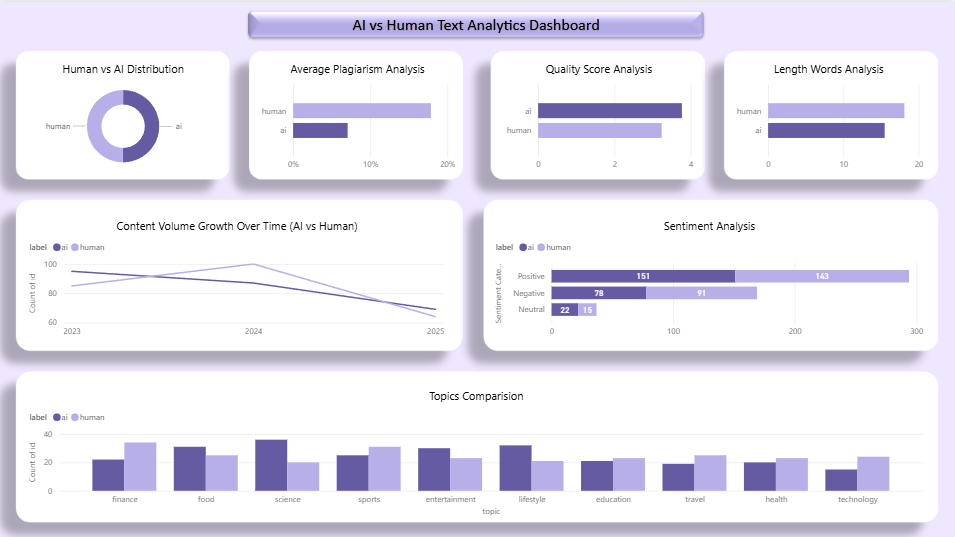

Layout of this report page (visuals, bound fields, positions):
{"tool":"powerbi","page":{"name":"Page 1","canvas":[1280,720],"ordinal":0},"visuals":[{"type":"donutChart","title":"Human vs AI Distribution ","fields":{"Category":["ai_vs_human_dataset_medium.label"],"Y":["CountNonNull(ai_vs_human_dataset_medium.id)"]},"box":[38.3,78.3,260,155],"z":0},{"type":"clusteredBarChart","title":"Quality Score Analysis","fields":{"Category":["ai_vs_human_dataset_medium.label"],"Y":["Avg(ai_vs_human_dataset_medium.quality_score)"]},"box":[671.7,78.3,261.7,155],"z":3},{"type":"barChart","title":"Average Plagiarism Analysis","fields":{"Category":["ai_vs_human_dataset_medium.label"],"Y":["Avg(ai_vs_human_dataset_medium.plagiarism_score)"]},"box":[345,78.3,271.7,155],"z":5},{"type":"clusteredColumnChart","title":"Topics Comparision","fields":{"Category":["ai_vs_human_dataset_medium.topic"],"Series":["ai_vs_human_dataset_medium.label"],"Y":["CountNonNull(ai_vs_human_dataset_medium.id)"]},"box":[38.3,515,1201.7,175],"z":6},{"type":"clusteredBarChart","title":"Length Words Analysis","fields":{"Category":["ai_vs_human_dataset_medium.label"],"Y":["Avg(ai_vs_human_dataset_medium.length_words)"]},"box":[978.3,78.3,261.7,155],"z":7},{"type":"barChart","title":"Sentiment Analysis","fields":{"Series":["ai_vs_human_dataset_medium.label"],"Y":["CountNonNull(ai_vs_human_dataset_medium.id)"],"Category":["ai_vs_human_dataset_medium.Sentiment Category"]},"box":[660,288.3,580,166.7],"z":8},{"type":"lineChart","title":"Content Volume Growth Over Time (AI vs Human)","fields":{"Y":["CountNonNull(ai_vs_human_dataset_medium.id)"],"Series":["ai_vs_human_dataset_medium.label"],"Category":["ai_vs_human_dataset_medium.timestamp.Variation.Date Hierarchy.Year"]},"box":[38.3,288.3,563.3,166.7],"z":9}]}

Visuals, with their boxes in screenshot pixels (x1, y1, x2, y2), scaled from the page's 1280x720 canvas onto the 955x537 screenshot:
"Human vs AI Distribution " donutChart: detection(29, 58, 223, 174)
"Quality Score Analysis" clusteredBarChart: detection(501, 58, 696, 174)
"Average Plagiarism Analysis" barChart: detection(257, 58, 460, 174)
"Topics Comparision" clusteredColumnChart: detection(29, 384, 925, 515)
"Length Words Analysis" clusteredBarChart: detection(730, 58, 925, 174)
"Sentiment Analysis" barChart: detection(492, 215, 925, 339)
"Content Volume Growth Over Time (AI vs Human)" lineChart: detection(29, 215, 449, 339)
